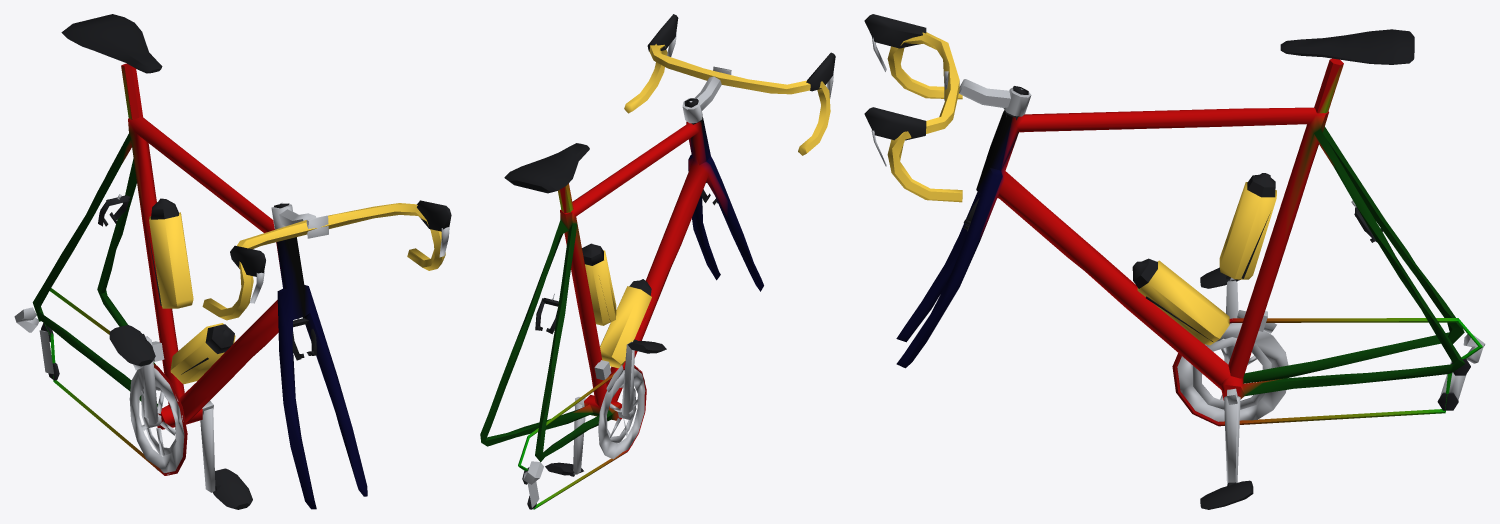
Rendered from retro_lod1.glb.
The picture shows the model from 3 angles, left to right: view 1: azimuth 30°, elevation 25°; view 2: azimuth 150°, elevation 25°; view 3: azimuth 270°, elevation 25°; orthographic projection. The views are drawn at different scales.
Parts seen in each view (by area): view 1: frame, cockpit, opt_bottles, crankset, saddle, pedal_R, opt_derailleur, pedal_L, opt_brakes_rim; view 2: frame, cockpit, opt_bottles, crankset, saddle, opt_derailleur, opt_brakes_rim; view 3: frame, cockpit, opt_bottles, crankset, saddle, opt_derailleur, pedal_L.
Part boxes in pixels (box(x1,y1,x2,y2)): frame: box(32, 63, 367, 509); cockpit: box(202, 200, 451, 320); opt_bottles: box(148, 198, 235, 383); crankset: box(129, 336, 215, 492); saddle: box(61, 14, 162, 73); pedal_R: box(109, 325, 155, 366); opt_derailleur: box(14, 307, 164, 380); pedal_L: box(213, 468, 252, 509); opt_brakes_rim: box(98, 194, 316, 360); frame: box(480, 117, 763, 509); cockpit: box(624, 14, 835, 155); opt_bottles: box(582, 243, 651, 368); crankset: box(573, 341, 645, 474); saddle: box(504, 143, 589, 193); opt_derailleur: box(522, 360, 623, 509); opt_brakes_rim: box(535, 182, 717, 334); frame: box(896, 58, 1482, 426); cockpit: box(864, 14, 1031, 202); opt_bottles: box(1132, 173, 1276, 345); crankset: box(1177, 280, 1288, 484); saddle: box(1280, 29, 1414, 64); opt_derailleur: box(1237, 310, 1485, 410); pedal_L: box(1200, 480, 1253, 509).
Size of the model in its own units: 0.4646 by 0.885 by 1.13.
